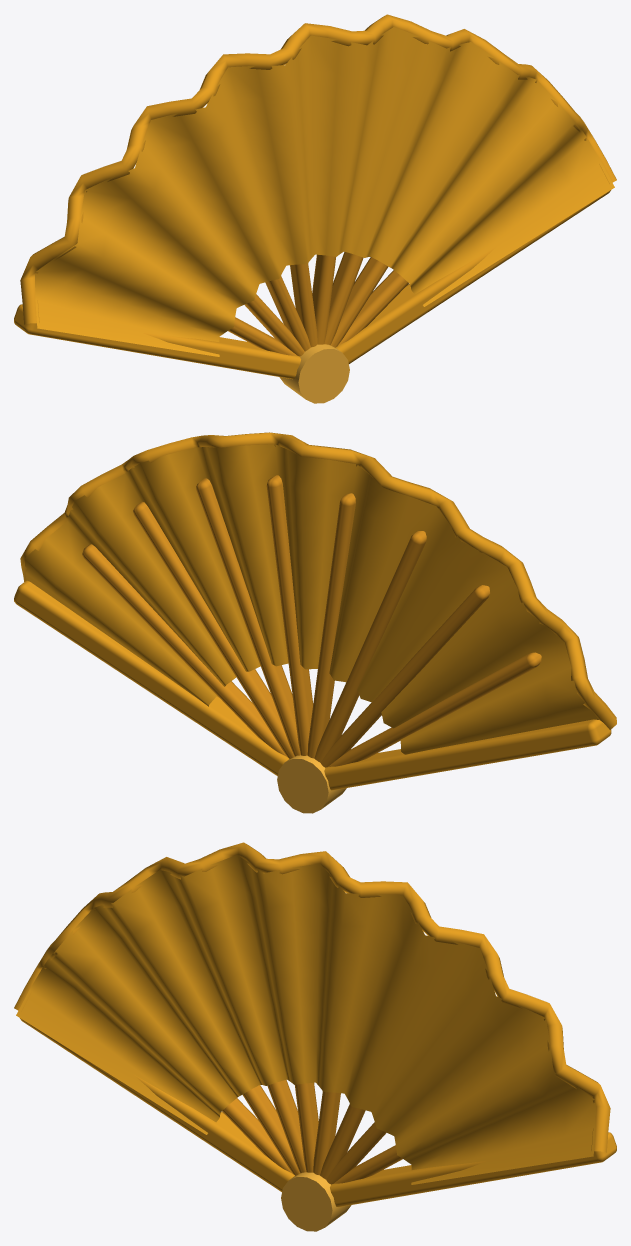
Rendered from folding-fan.glb.
The picture shows the model from 3 angles, top to bottom: view 1: azimuth 30°, elevation 25°; view 2: azimuth 150°, elevation 25°; view 3: azimuth 330°, elevation 25°; orthographic projection.
Visible parts, largest first — view 1: Honey yellow molded pleated folding fan; view 2: Honey yellow molded pleated folding fan; view 3: Honey yellow molded pleated folding fan.
Part boxes in pixels (x1,y1,x2,y2): Honey yellow molded pleated folding fan: (14,14,616,403); Honey yellow molded pleated folding fan: (14,432,616,813); Honey yellow molded pleated folding fan: (14,842,616,1231).
Bounding box in the file's own units: 1.22 × 0.7186 × 0.09.
